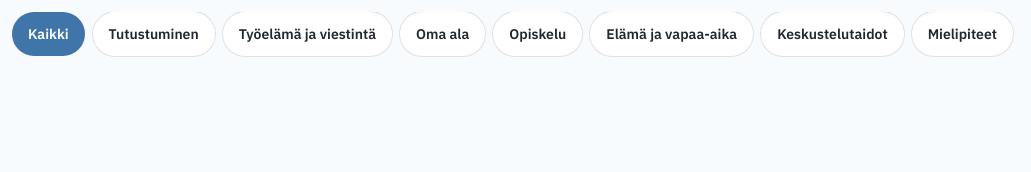
Test case: FilterBar › shows only the topics that occur under the selected area
The image size is (1031, 172).
Click the button "Oma ala": (443, 34) top-left (400, 12), bottom-right (485, 56)
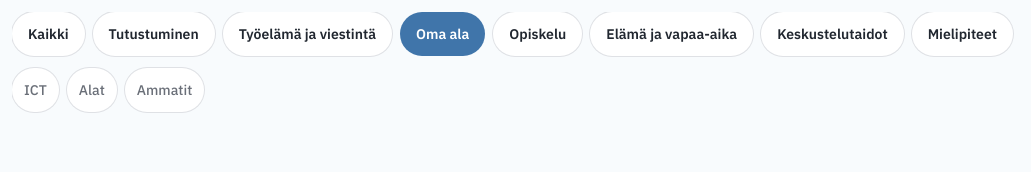
Expected: the button "ICT" is shown, top-left (12, 68), bottom-right (59, 112)
